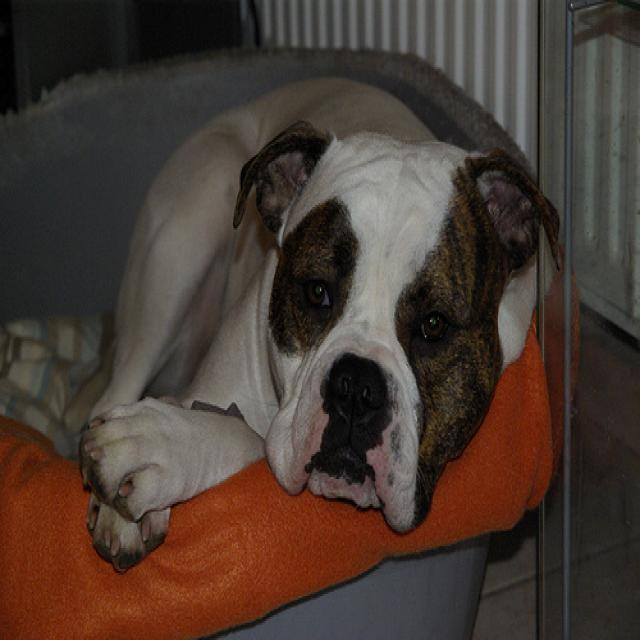dog-american_bulldog: (68, 67, 567, 588)
